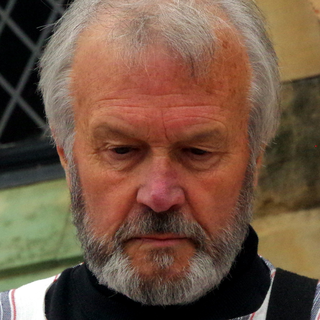eye: (167, 134, 225, 172), (90, 132, 149, 169)
